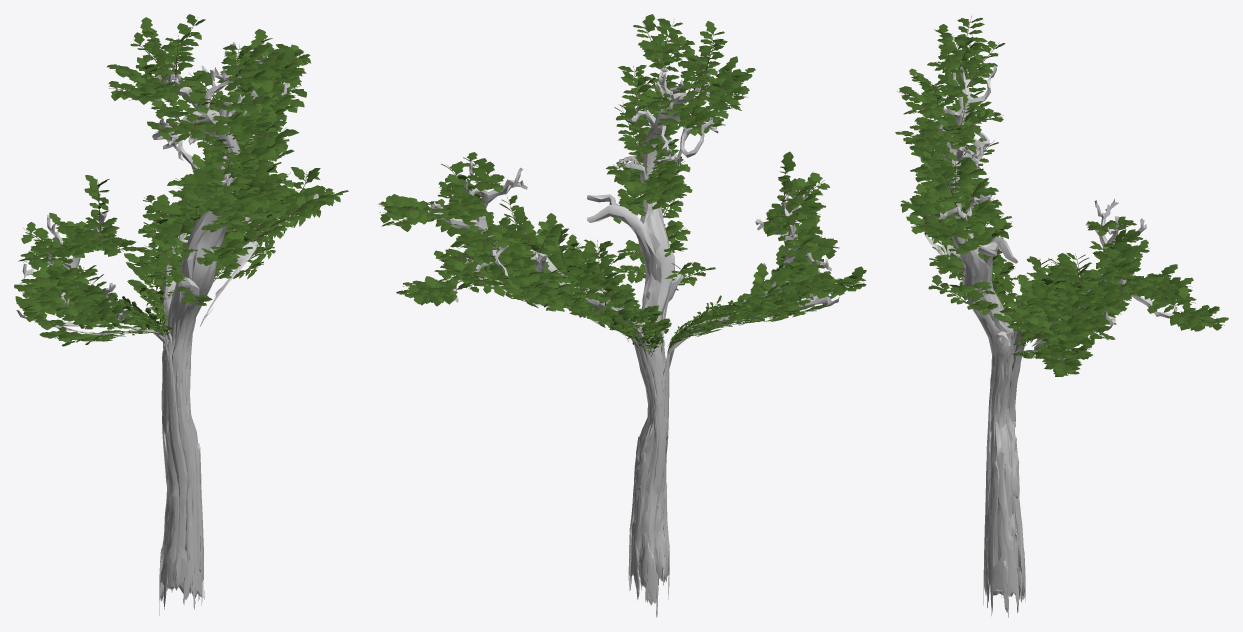
The model's file is resinheart-lod0.gltf.
3 renders of one model, left to right at view 1: azimuth 30°, elevation 25°; view 2: azimuth 150°, elevation 25°; view 3: azimuth 270°, elevation 25°, orthographic. The views are drawn at different scales.
Parts seen in each view (by area): view 1: resinheart broadleaf foliage 0 L0 L0, resinheart broadleaf trunk L0 L0, resinheart broadleaf branchlets 0 L0 L0; view 2: resinheart broadleaf foliage 0 L0 L0, resinheart broadleaf trunk L0 L0, resinheart broadleaf branchlets 0 L0 L0; view 3: resinheart broadleaf foliage 0 L0 L0, resinheart broadleaf trunk L0 L0, resinheart broadleaf branchlets 0 L0 L0.
Part boxes in pixels (<box>): resinheart broadleaf foliage 0 L0 L0: <box>14,14,348,346</box>; resinheart broadleaf trunk L0 L0: <box>16,42,318,615</box>; resinheart broadleaf branchlets 0 L0 L0: <box>19,17,309,340</box>; resinheart broadleaf foliage 0 L0 L0: <box>378,14,866,352</box>; resinheart broadleaf trunk L0 L0: <box>427,59,839,617</box>; resinheart broadleaf branchlets 0 L0 L0: <box>379,19,861,356</box>; resinheart broadleaf foliage 0 L0 L0: <box>895,17,1228,376</box>; resinheart broadleaf trunk L0 L0: <box>925,65,1183,617</box>; resinheart broadleaf branchlets 0 L0 L0: <box>897,16,1224,375</box>.
Size of the model in its own units: 8.18 by 12 by 6.25.
